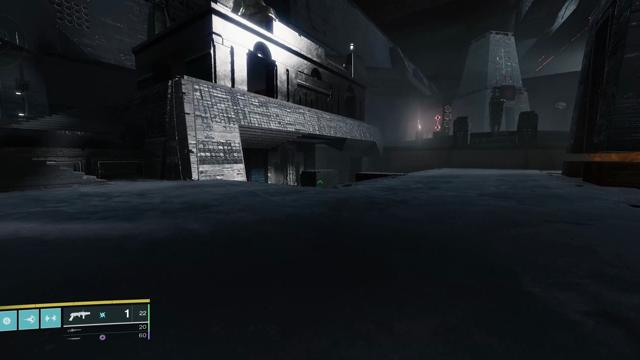brain: (553, 98, 569, 113)
stop: (503, 87, 515, 100)
